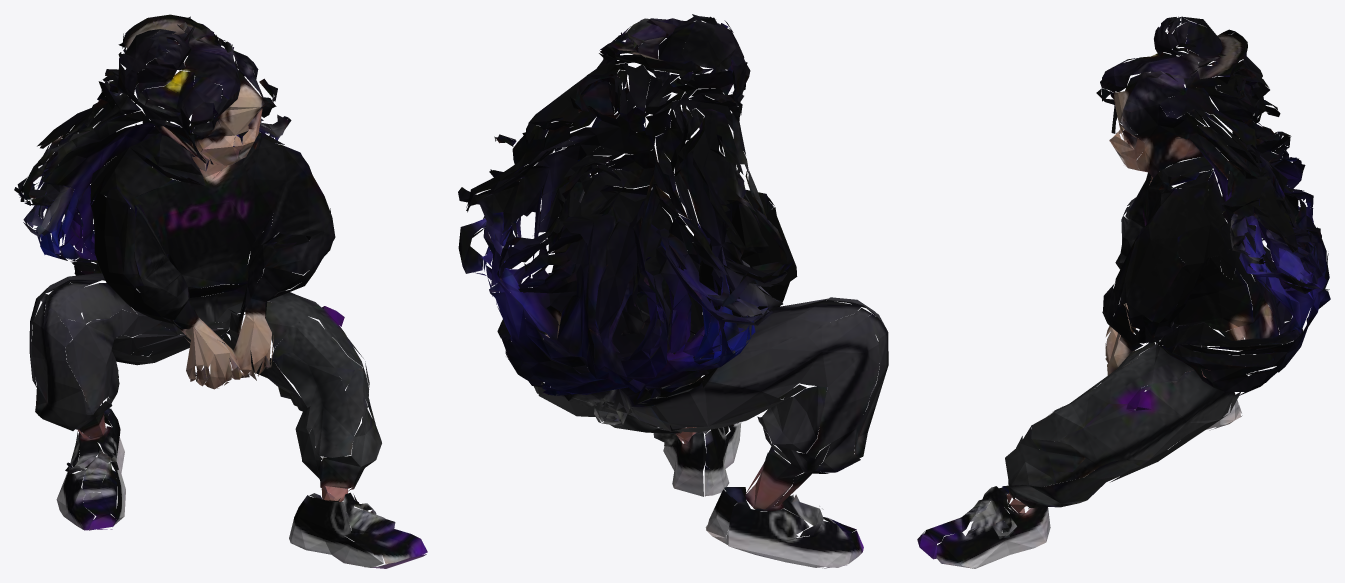
Rendered from char_nova.glb.
3 renders of one model, left to right at view 1: azimuth 30°, elevation 25°; view 2: azimuth 150°, elevation 25°; view 3: azimuth 270°, elevation 25°, orthographic. The views are drawn at different scales.
Visible parts, largest first — view 1: char_nova_model; view 2: char_nova_model; view 3: char_nova_model.
Part boxes in pixels (bbox=[...]): char_nova_model: bbox=[14, 14, 427, 568]; char_nova_model: bbox=[458, 14, 888, 568]; char_nova_model: bbox=[917, 16, 1330, 568].
Bounding box in the file's own units: 0.9434 × 1.39 × 1.08.
Materials: 1 (1 with a texture image).
